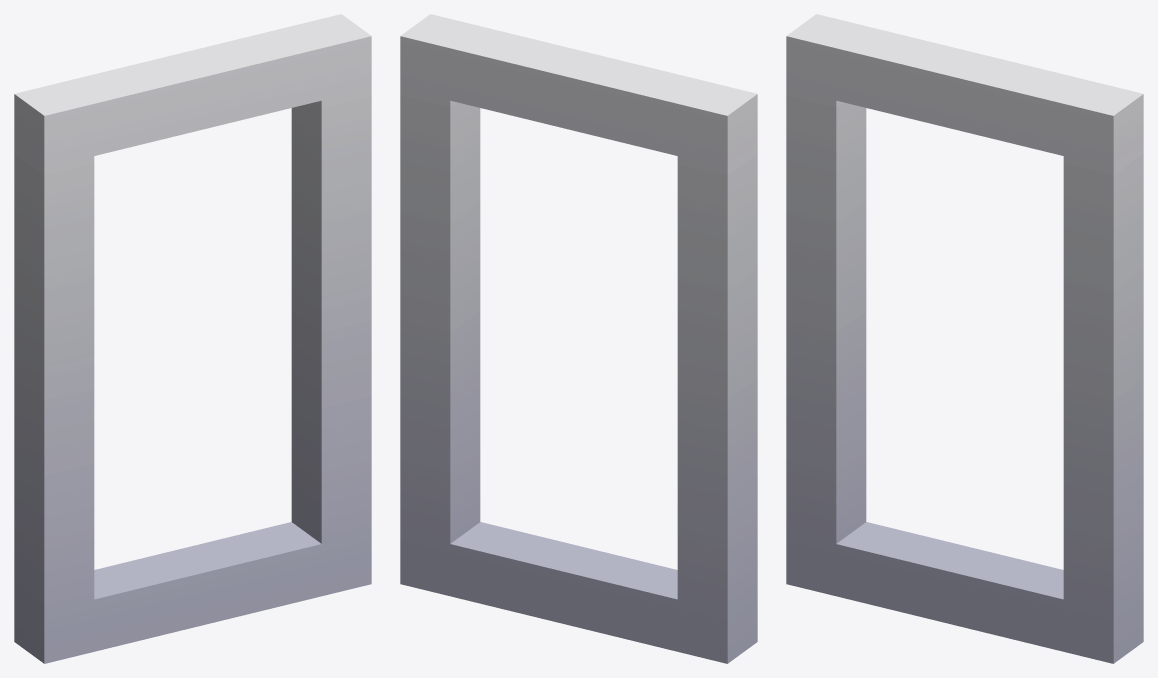
File: kenney-modular-buildings-window-white-tall.glb
3 views of the same model, side by side, from view 1: azimuth 30°, elevation 25°; view 2: azimuth 150°, elevation 25°; view 3: azimuth 330°, elevation 25° (orthographic).
Visible parts, largest first — view 1: window-white-tall; view 2: window-white-tall; view 3: window-white-tall.
Part boxes in pixels (x1,y1,x2,y2): window-white-tall: [14, 14, 371, 663]; window-white-tall: [400, 14, 757, 663]; window-white-tall: [786, 14, 1143, 663].
Bounding box in the file's own units: 0.3125 × 0.5 × 0.05.
Materials: 1 (1 with a texture image).
